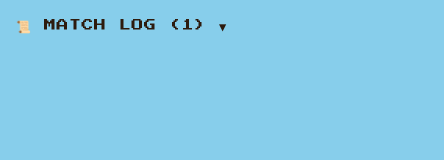
Scenario: MatchHistory Component › requires confirmation before clearing history
The image size is (444, 160).
Later steps or results of the test are not shown.
What coordinates should you click on to do the following:
click the button "📜 MATCH LOG (1) ▼"
I would click on:
 (121, 25)
Its box is [16,16,227,34].
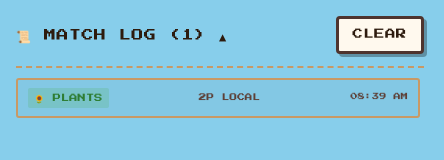
Note: Click Clear button
What coordinates should you click on to do the following:
click the button "Clear"
I would click on:
 (380, 35)
Its box is [336,16,424,54].
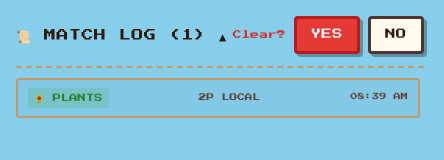
Now the text "Clear?" is shown, box [233,28,286,41]
